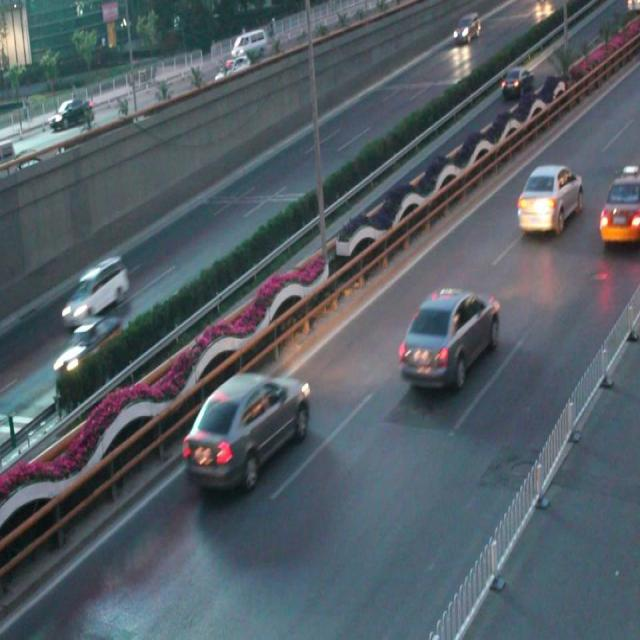car: (183, 376, 310, 487), (400, 286, 497, 386), (516, 164, 582, 235), (53, 318, 121, 378), (597, 164, 640, 247)
truck: (61, 258, 128, 322)
